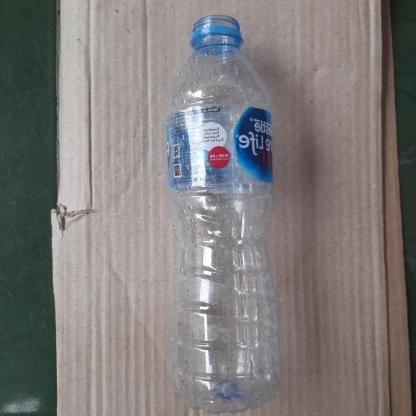Plastic Bottle: (164, 15, 280, 412)
